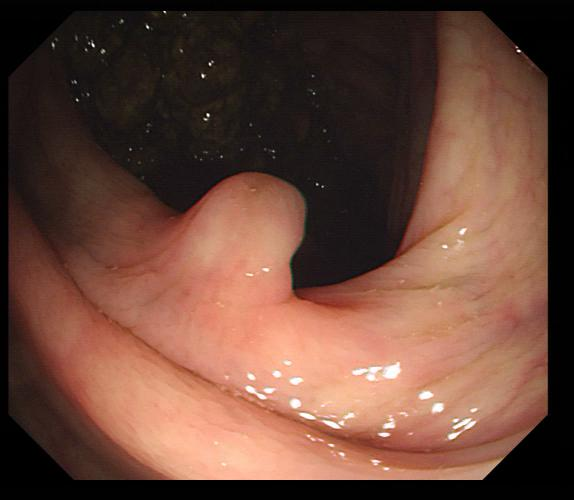polyp: (159, 170, 311, 301)
